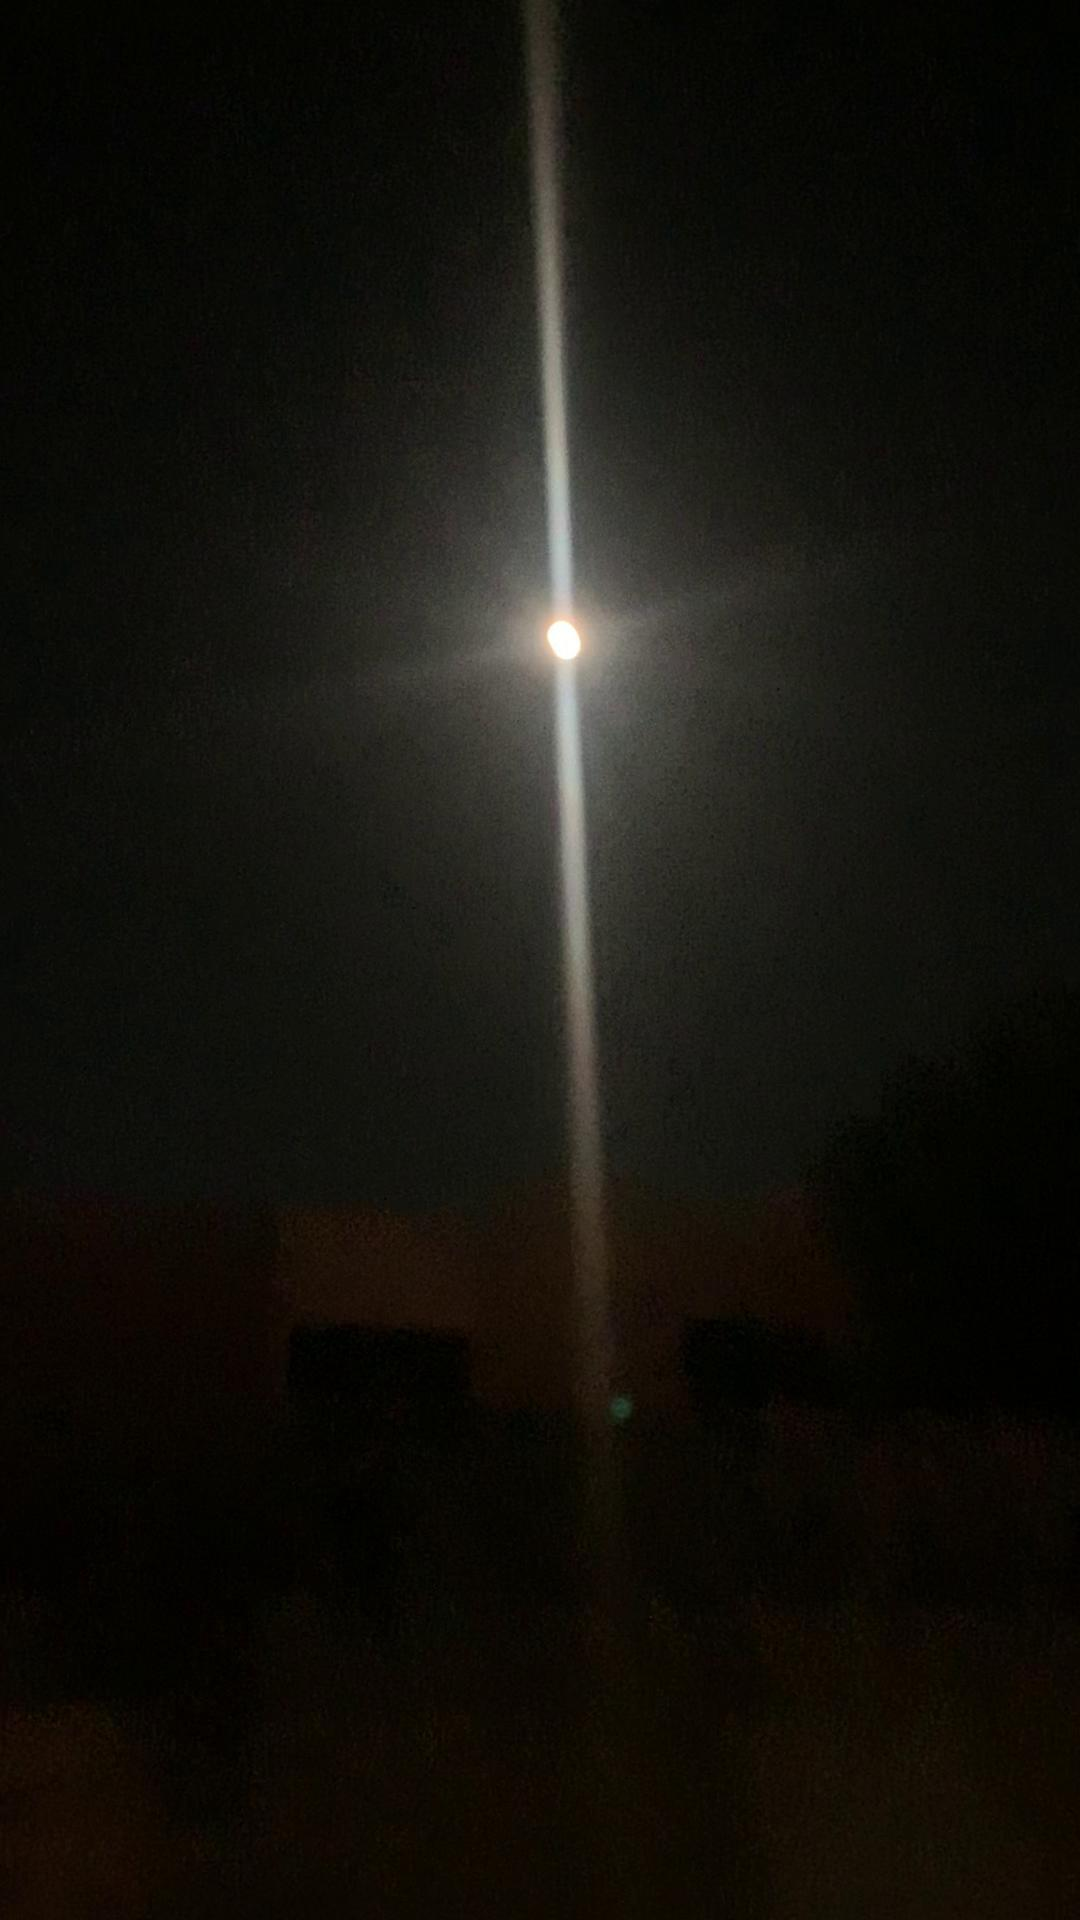moon: (513, 576, 621, 675)
